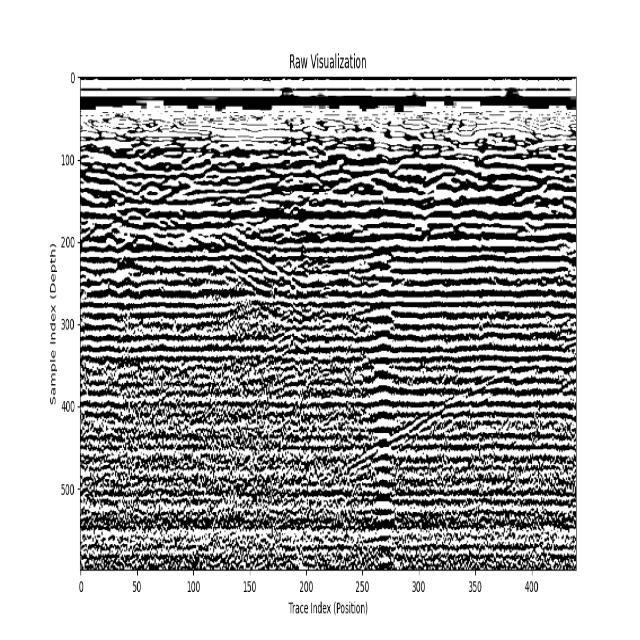anomaly: (334, 374, 573, 480)
